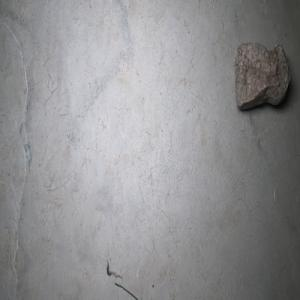Rock: (233, 41, 291, 110)
